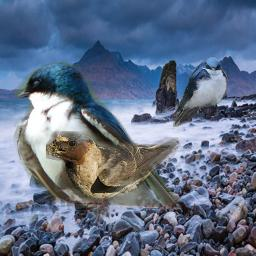Swallow: (13, 60, 182, 232), (46, 131, 181, 204), (171, 56, 228, 127)
